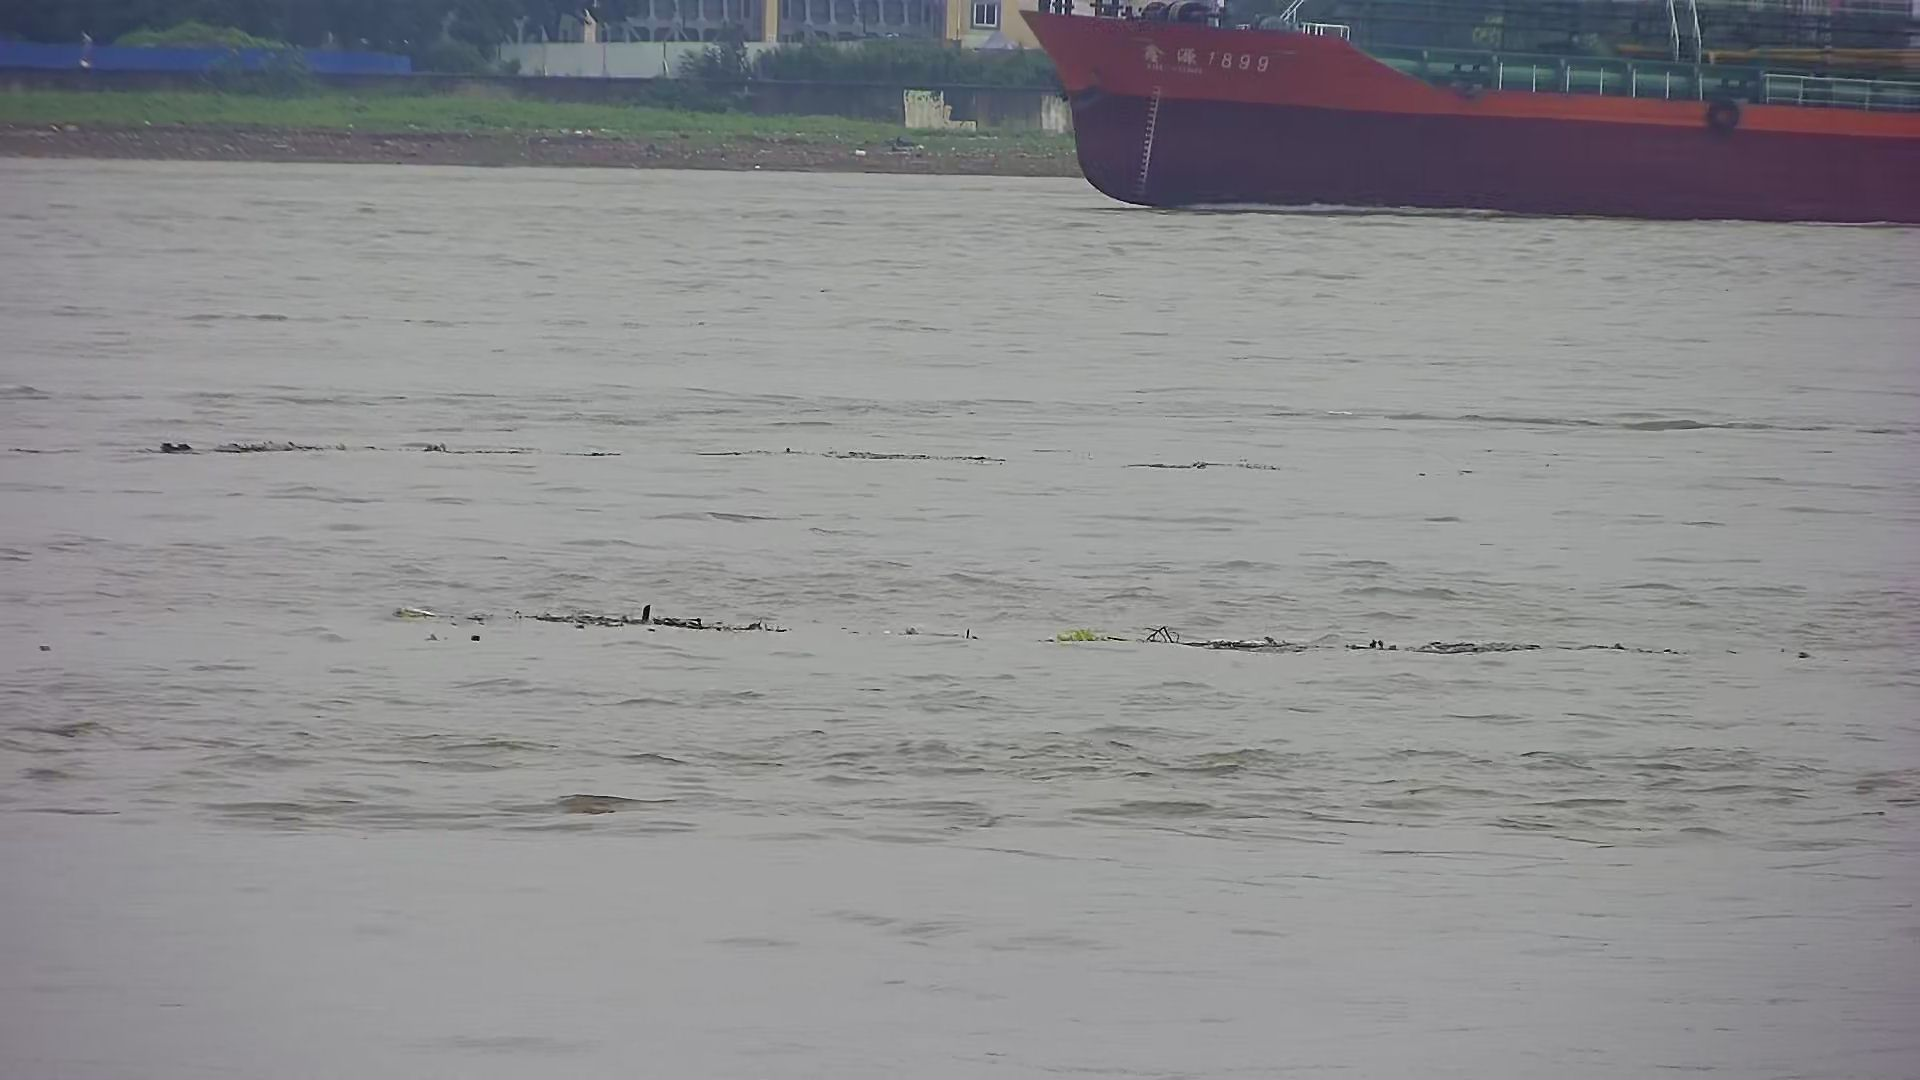ship: (1007, 1, 1913, 243)
